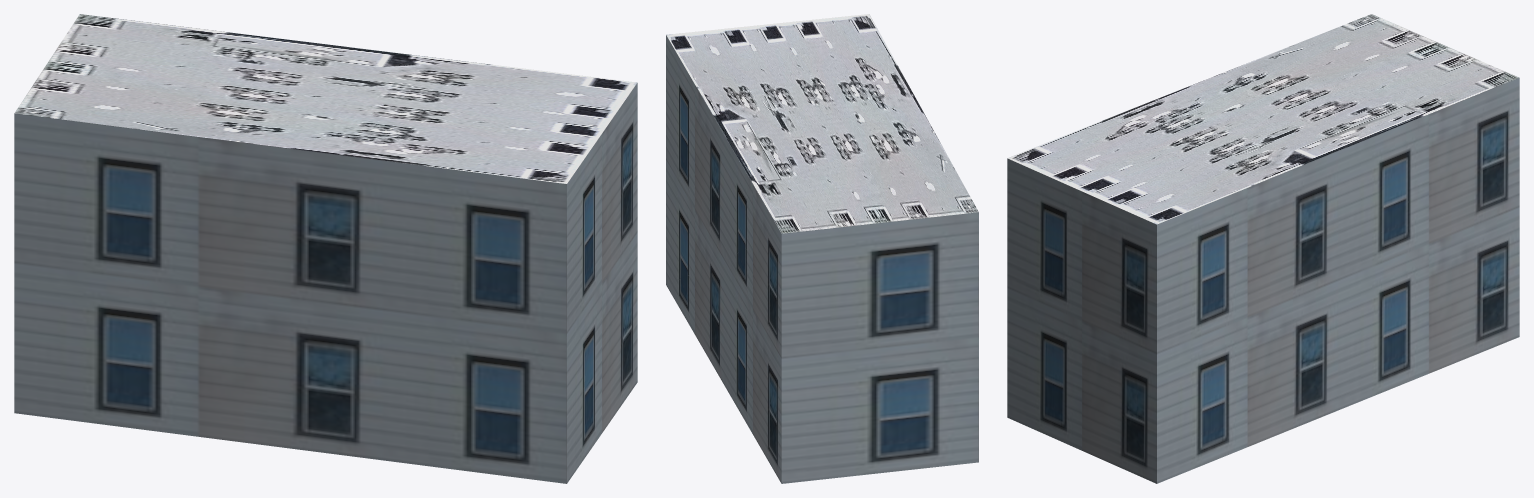
The model's file is ResTex__1260.fbx.
3 renders of one model, left to right at view 1: azimuth 30°, elevation 25°; view 2: azimuth 150°, elevation 25°; view 3: azimuth 270°, elevation 25°, orthographic. The views are drawn at different scales.
Parts seen in each view (by area): view 1: CityEngineMaterial_18_m, CityEngineMaterial_m; view 2: CityEngineMaterial_18_m, CityEngineMaterial_m; view 3: CityEngineMaterial_18_m, CityEngineMaterial_m.
Part boxes in pixels (x1,y1,x2,y2): CityEngineMaterial_18_m: (14,83,637,483); CityEngineMaterial_m: (15,14,636,183); CityEngineMaterial_18_m: (666,35,978,483); CityEngineMaterial_m: (666,14,978,233); CityEngineMaterial_18_m: (1007,78,1519,483); CityEngineMaterial_m: (1007,14,1519,224).
Bounding box in the file's own units: 10.45 × 6 × 10.74.
2 materials, 2 textured.
